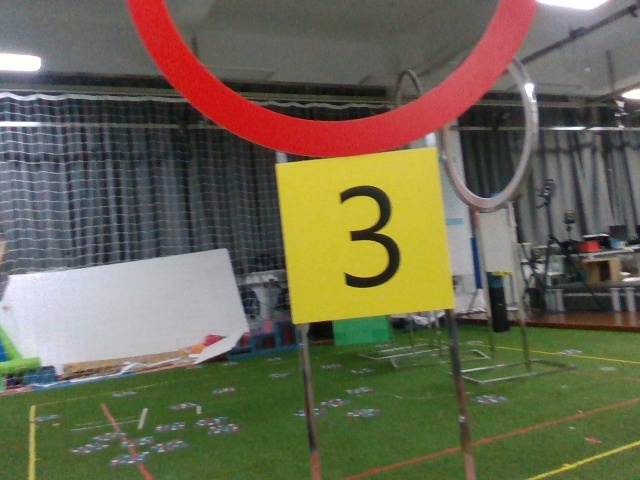target: (280, 156, 445, 310)
